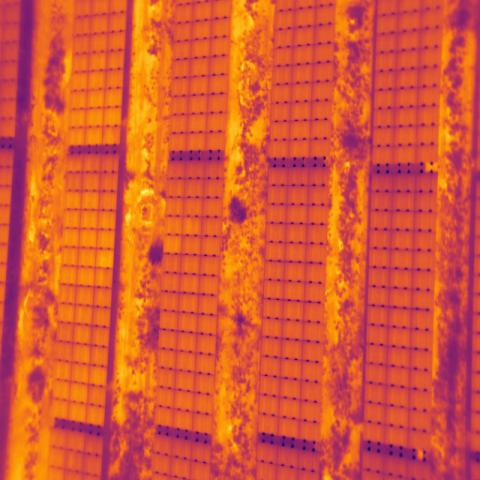fault: (94, 247, 116, 270)
